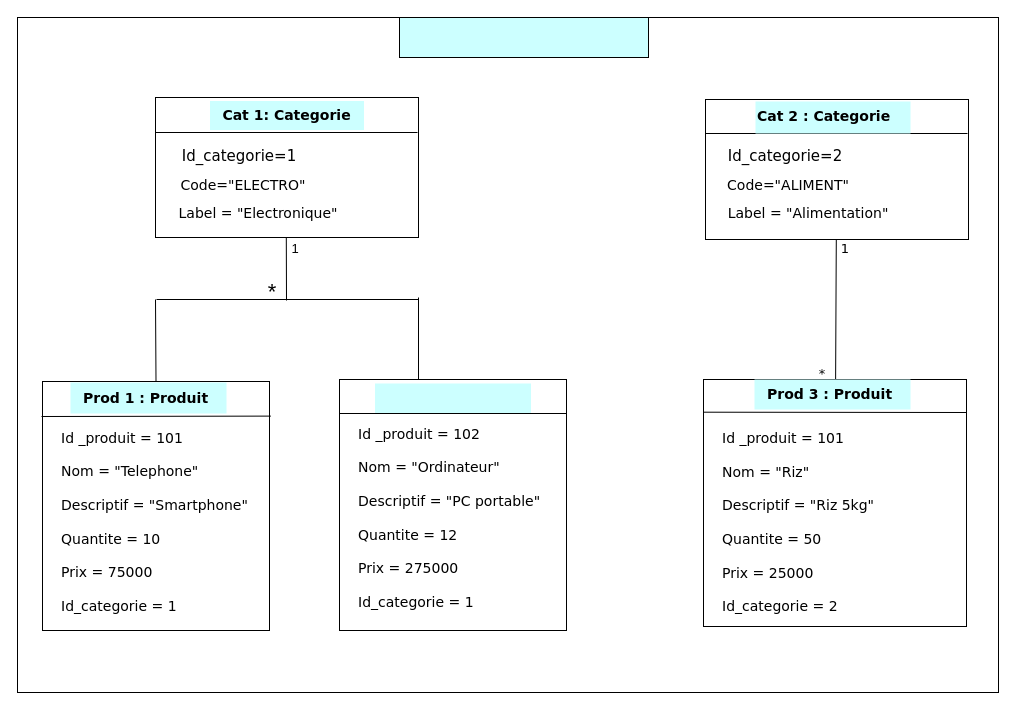
Some shapes in this 1016 by 710 pixel diagram are drawn without their labels. The box of each missing label's shape, as (x1, y1, x2, y2) in pixels:
GESTION DE STOCK: (398, 16, 648, 58)
Prod 2 : Produit: (374, 383, 530, 413)
